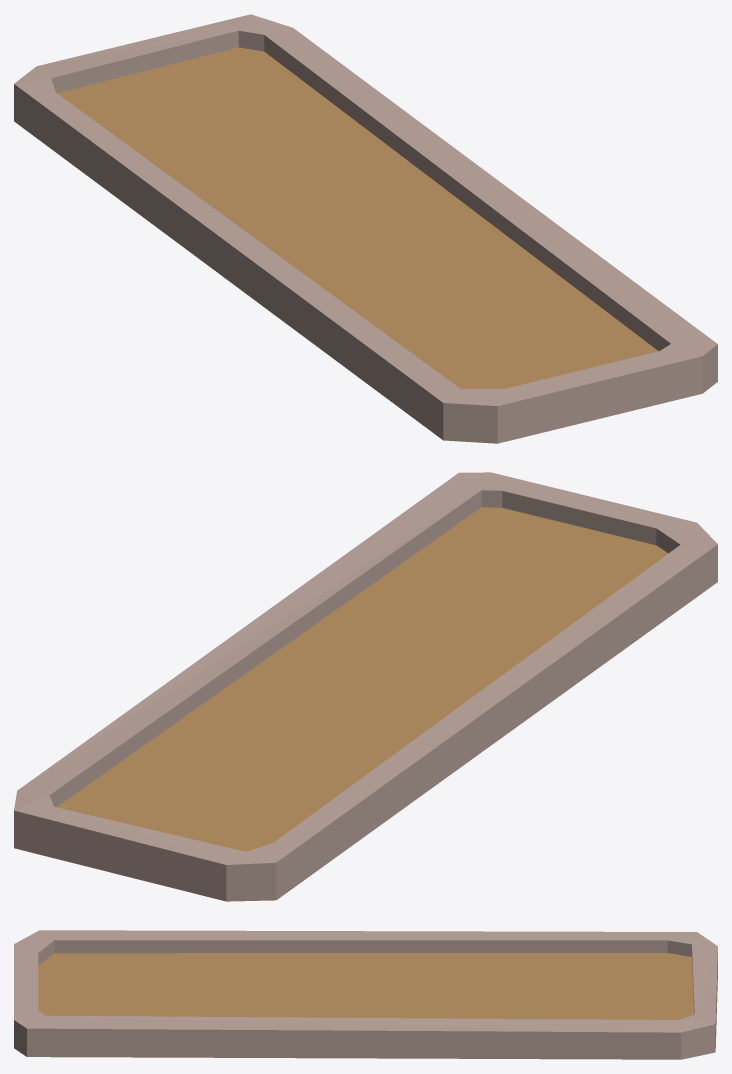
Rendered from flower_bed_2.fbx.
3 views of the same model, one above another, from view 1: azimuth 30°, elevation 25°; view 2: azimuth 150°, elevation 25°; view 3: azimuth 270°, elevation 25° (orthographic). The views are drawn at different scales.
Parts seen in each view (by area): view 1: flower_bed_2; view 2: flower_bed_2; view 3: flower_bed_2.
Boxes of the visible parts, x1,y1,x2,y2 form: flower_bed_2: (14, 14, 717, 443); flower_bed_2: (14, 472, 717, 901); flower_bed_2: (14, 930, 717, 1059).
Bounding box in the file's own units: 235 × 30.87 × 693.
